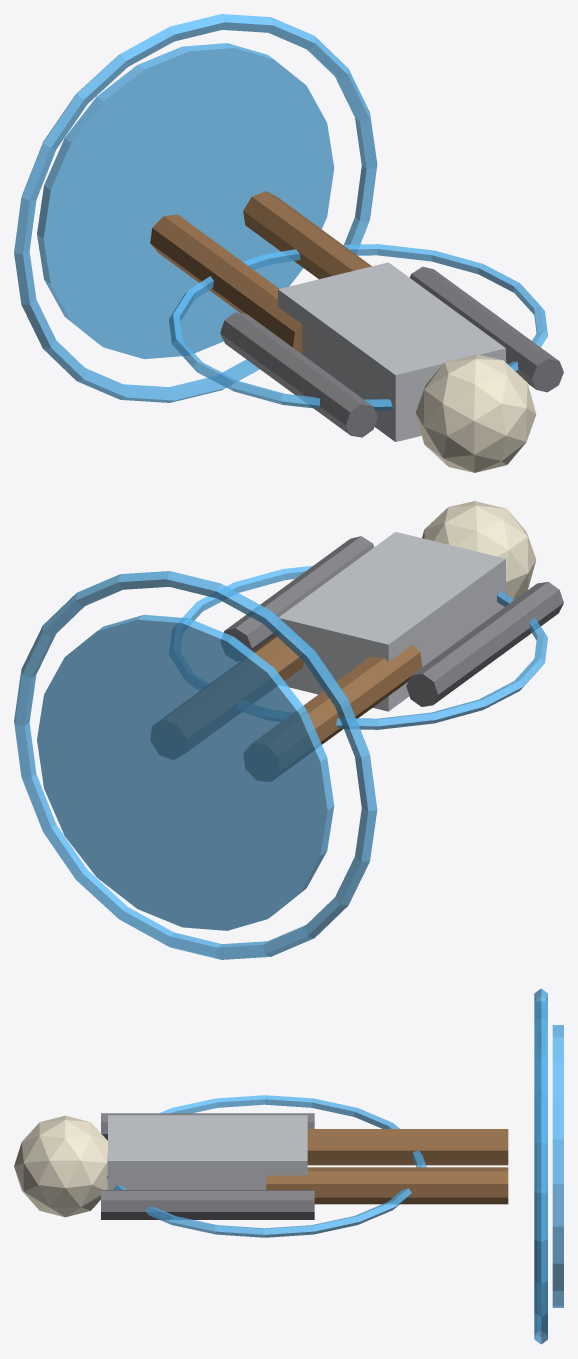
File: biped_heavy_slam_pose.glb
3 views of the same model, one above another, from view 1: azimuth 30°, elevation 25°; view 2: azimuth 150°, elevation 25°; view 3: azimuth 270°, elevation 25° (orthographic). The views are drawn at different scales.
Parts seen in each view (by area): view 1: marker_disc, torso, marker_ring, head, left_leg, motion_arc, left_arm, right_leg, right_arm; view 2: marker_disc, torso, marker_ring, left_leg, right_leg, left_arm, head, right_arm, motion_arc; view 3: torso, right_leg, head, left_leg, right_arm, motion_arc, marker_ring, marker_disc, left_arm.
Part boxes in pixels (x1,y1,x2,y2): marker_disc: (37, 43, 334, 359); torso: (278, 262, 505, 441); marker_ring: (14, 14, 377, 402); head: (415, 354, 536, 472); left_leg: (150, 214, 302, 353); motion_arc: (169, 244, 547, 410); left_arm: (220, 312, 377, 437); right_leg: (243, 191, 371, 279); right_arm: (409, 266, 563, 392); marker_disc: (37, 614, 334, 930); torso: (278, 532, 505, 711); marker_ring: (14, 571, 377, 959); left_leg: (244, 644, 422, 781); right_leg: (151, 634, 304, 759); left_arm: (406, 582, 563, 706); head: (422, 501, 536, 605); right_arm: (221, 536, 373, 661); motion_arc: (179, 565, 547, 729); torso: (108, 1115, 307, 1189); right_leg: (266, 1167, 508, 1204); head: (14, 1115, 107, 1217); left_leg: (307, 1129, 508, 1165); right_arm: (101, 1190, 314, 1219); motion_arc: (107, 1095, 426, 1237); marker_ring: (534, 988, 547, 1344); marker_disc: (552, 1025, 563, 1307); left_arm: (101, 1113, 314, 1140).
Size of the model in its own units: 1.25 by 1.24 by 1.93.
